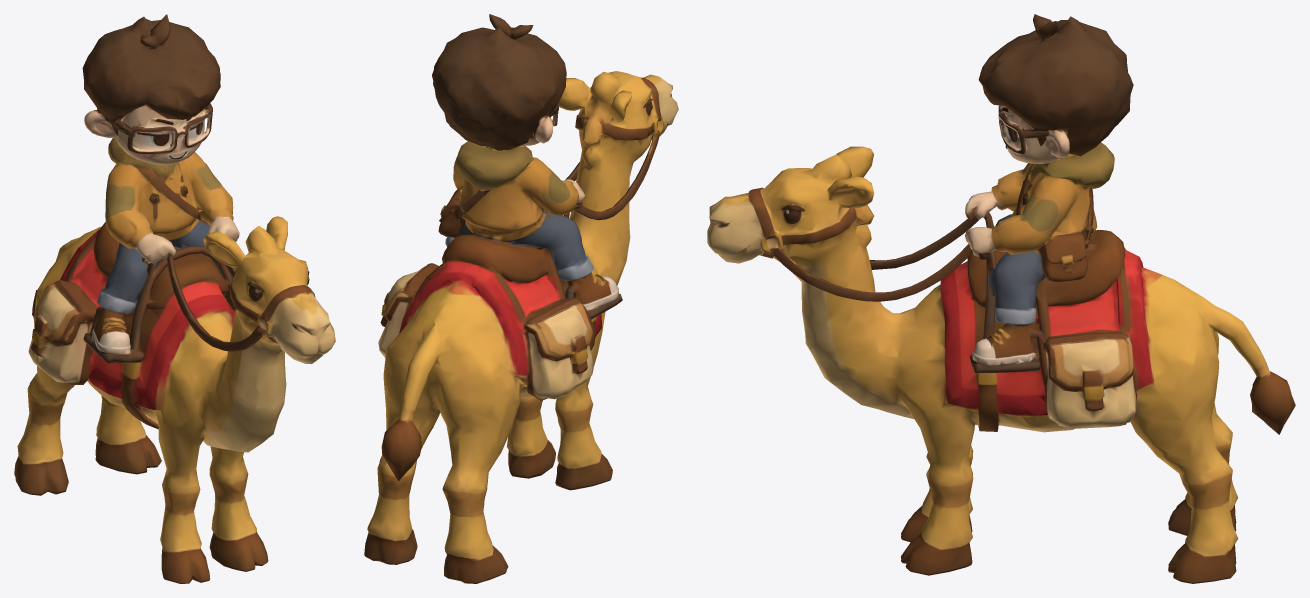
3 renders of one model, left to right at view 1: azimuth 30°, elevation 25°; view 2: azimuth 150°, elevation 25°; view 3: azimuth 270°, elevation 25°, orthographic. The views are drawn at different scales.
Visible parts, largest first — view 1: tripo_node_1091a000-7e44-4b80-a34a-e1fc6f798d8e; view 2: tripo_node_1091a000-7e44-4b80-a34a-e1fc6f798d8e; view 3: tripo_node_1091a000-7e44-4b80-a34a-e1fc6f798d8e.
Part boxes in pixels (x1=…): tripo_node_1091a000-7e44-4b80-a34a-e1fc6f798d8e: x1=14, y1=14, x2=335, y2=583; tripo_node_1091a000-7e44-4b80-a34a-e1fc6f798d8e: x1=364, y1=14, x2=678, y2=583; tripo_node_1091a000-7e44-4b80-a34a-e1fc6f798d8e: x1=707, y1=14, x2=1295, y2=583.
Size of the model in its own units: 0.4168 by 0.9803 by 0.9752.
Materials: 2 (2 with a texture image).
